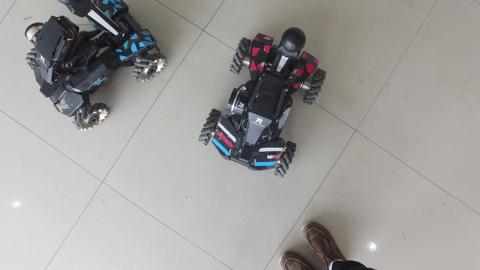chariot: (195, 23, 329, 183), (21, 1, 167, 132)
